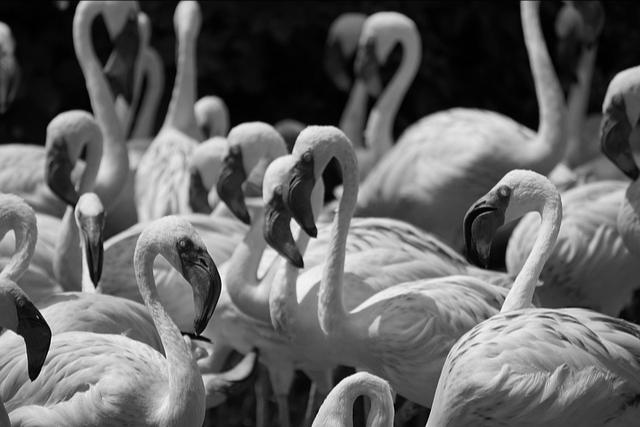Non_Gorille: (32, 14, 612, 415)
